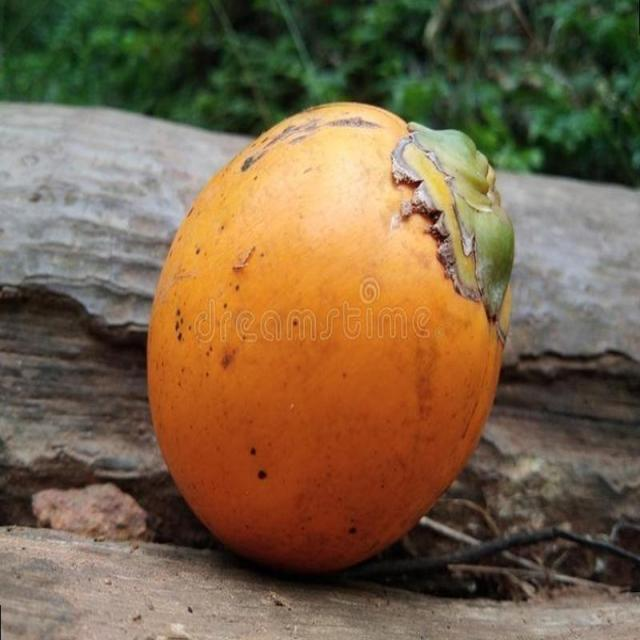good: (146, 103, 515, 580)
